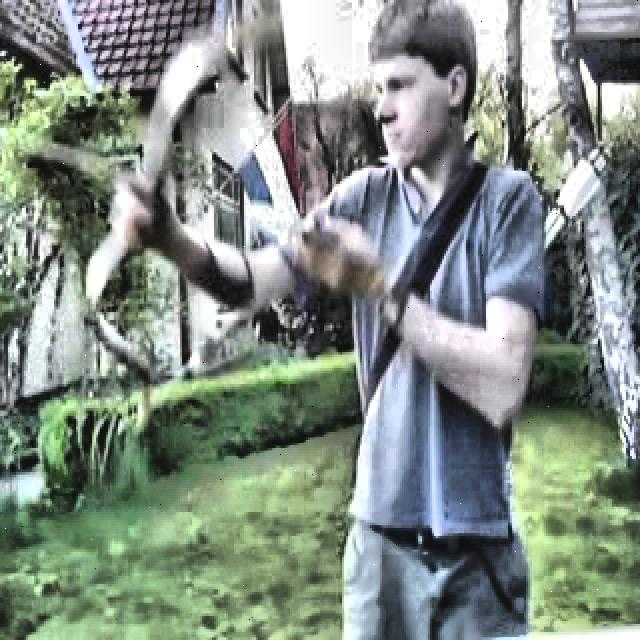P: (110, 5, 542, 636)
